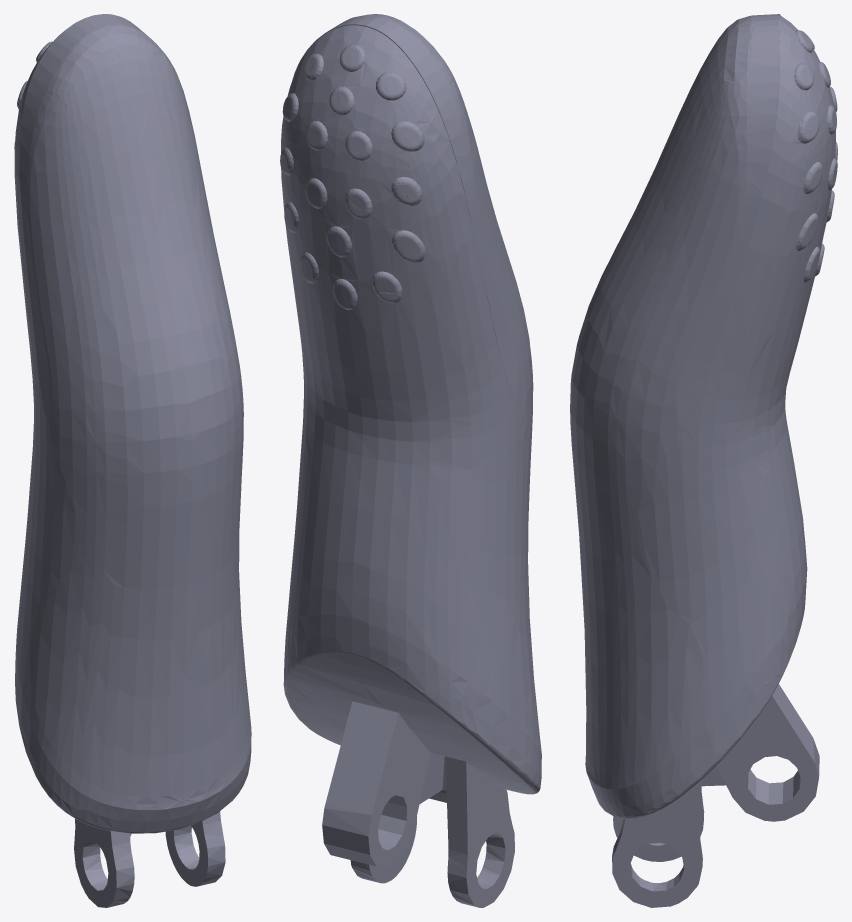
File: hand2_link_3_2_visuals.obj
3 renders of one model, left to right at view 1: azimuth 30°, elevation 25°; view 2: azimuth 150°, elevation 25°; view 3: azimuth 270°, elevation 25°, orthographic. The views are drawn at different scales.
Size of the model in its own units: 0.0136 by 0.0523 by 0.0147.
